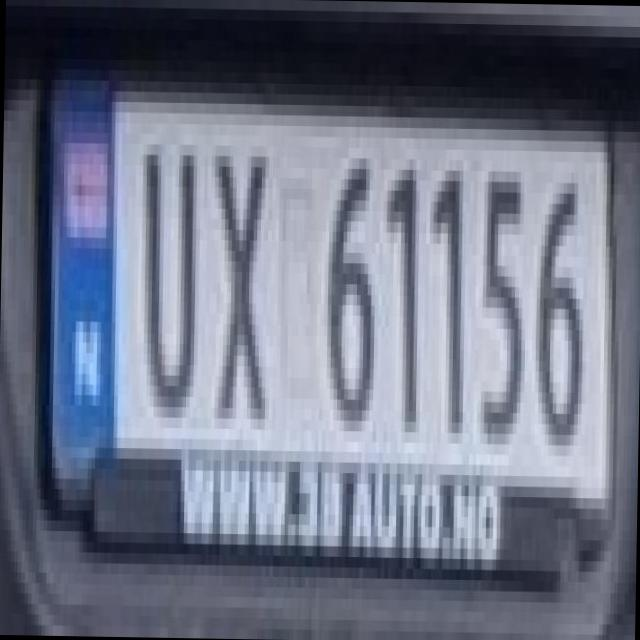1: (358, 136, 420, 422), (408, 148, 467, 422)
5: (469, 149, 528, 434)
6: (311, 126, 385, 421), (526, 150, 590, 435)
U: (132, 112, 202, 408)
X: (200, 124, 274, 408)
